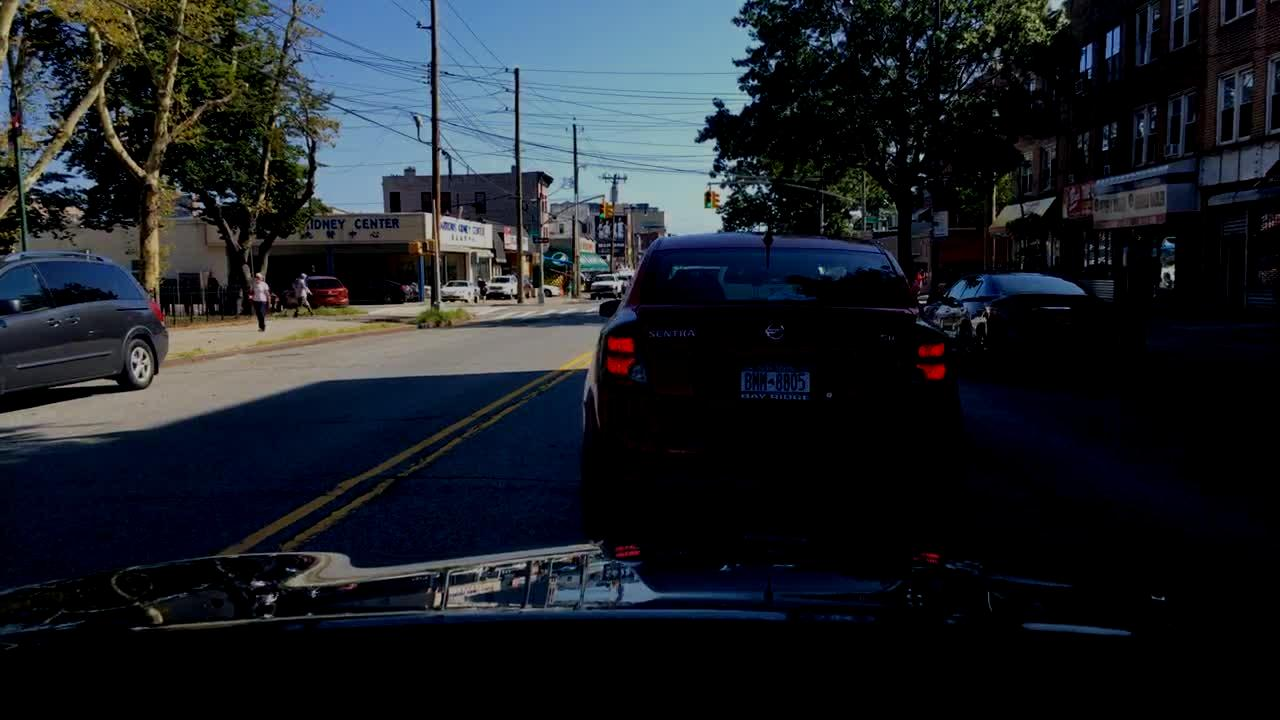Nissan: (761, 314, 792, 348)
